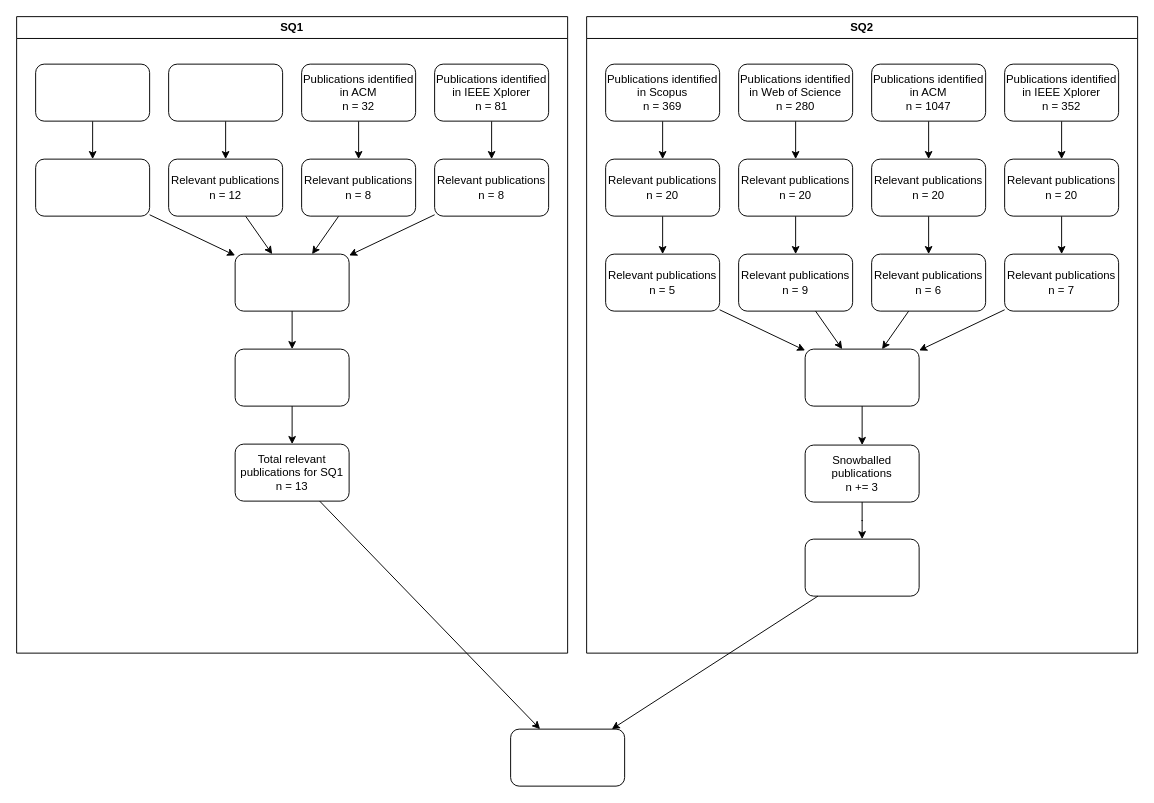
The diagram is 1154 pixels wide and 803 high, and some of its shapes have lost their labels. Each missing label, with the box of its shape:
Publications identified in Scopus n = 97: (35, 63, 150, 121)
Publications identified in Web of Science n = 73: (168, 63, 283, 121)
Relevant publications n = 16: (35, 158, 150, 216)
Snowballed Publications n += 2: (234, 348, 349, 406)
Total publications removing duplicates n = 10: (804, 348, 919, 406)
Total publications removing duplicates n = 11: (234, 253, 349, 311)
Total relevant publications for SQ2 n = 13: (804, 538, 919, 596)
Total relevant publications n = 26: (510, 728, 625, 786)
